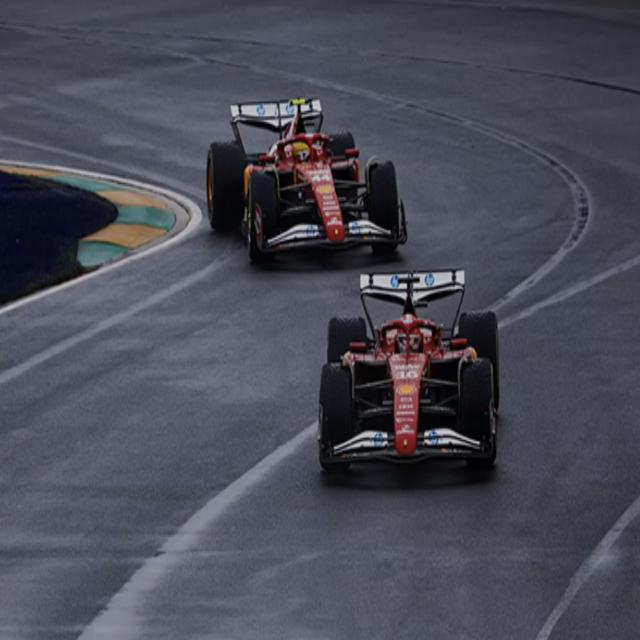Ferrari: (318, 269, 501, 487), (206, 98, 410, 268)
